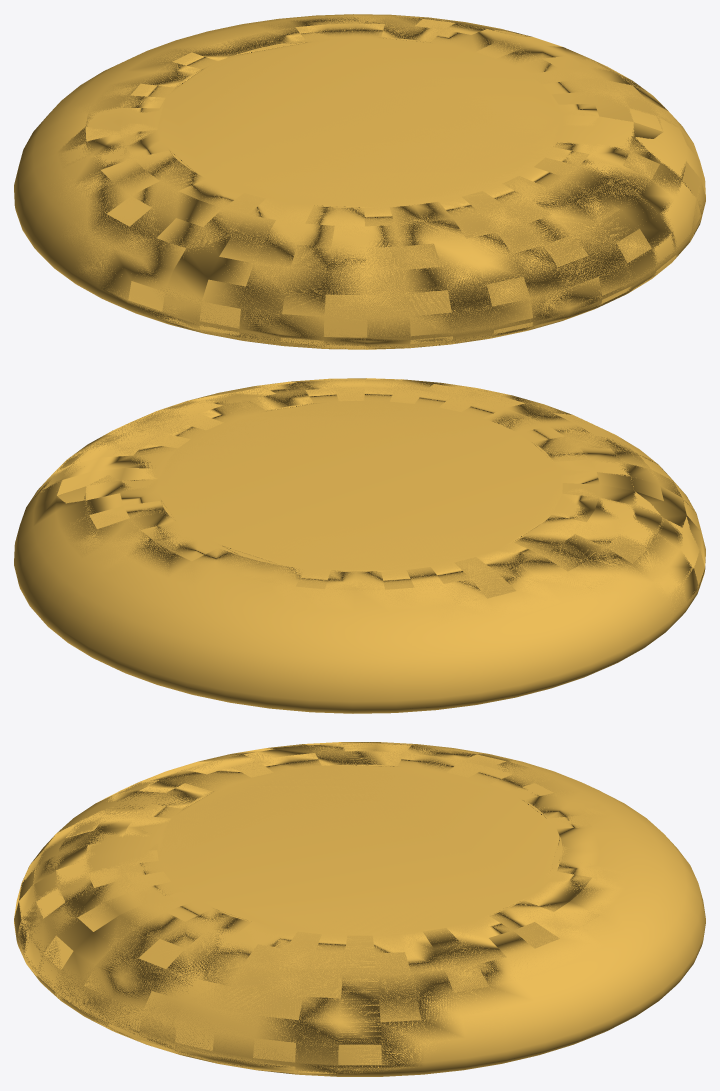
File: panMedio.glb
3 renders of one model, top to bottom at view 1: azimuth 30°, elevation 25°; view 2: azimuth 150°, elevation 25°; view 3: azimuth 270°, elevation 25°, orthographic.
Visible parts, largest first — view 1: Cilindro.004; view 2: Cilindro.004; view 3: Cilindro.004.
Part boxes in pixels (x1,y1,x2,y2): Cilindro.004: (14,14,705,349); Cilindro.004: (14,378,705,713); Cilindro.004: (14,742,705,1076).
Size of the model in its own units: 3.6 by 0.5231 by 3.61.
